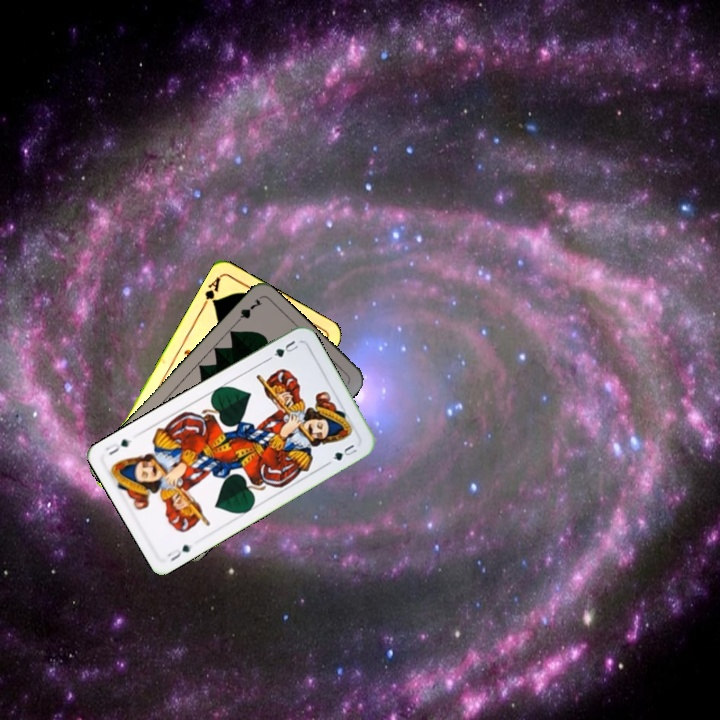G7: (230, 295, 265, 328)
GA: (198, 273, 223, 310)
GU: (163, 540, 195, 564), (270, 336, 301, 360)
